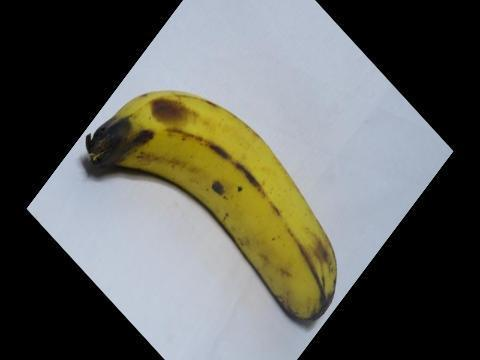ripe: (85, 84, 349, 336)
